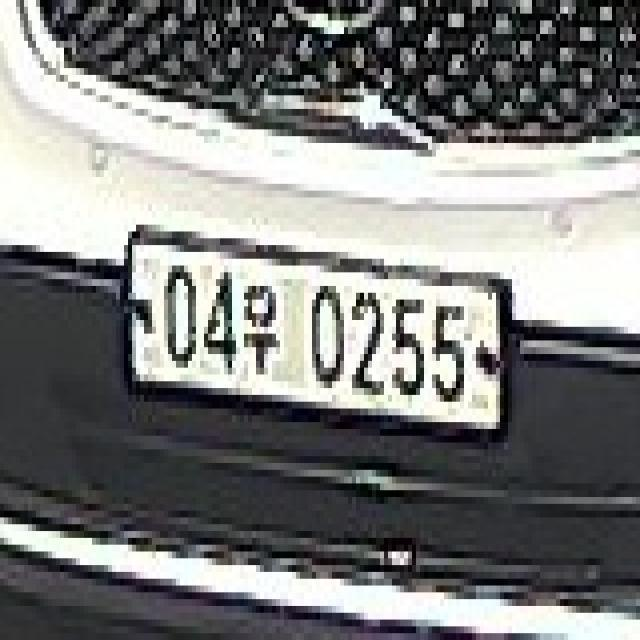plat: (122, 223, 513, 434)
